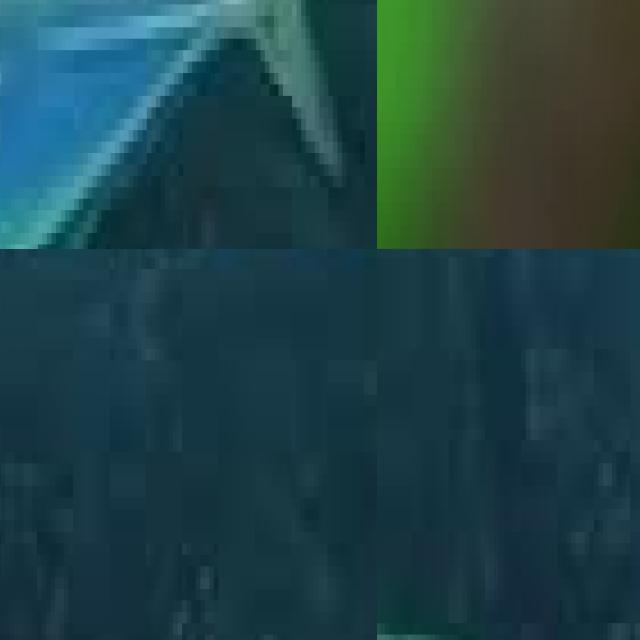fish: (0, 0, 377, 249), (55, 249, 332, 372)
